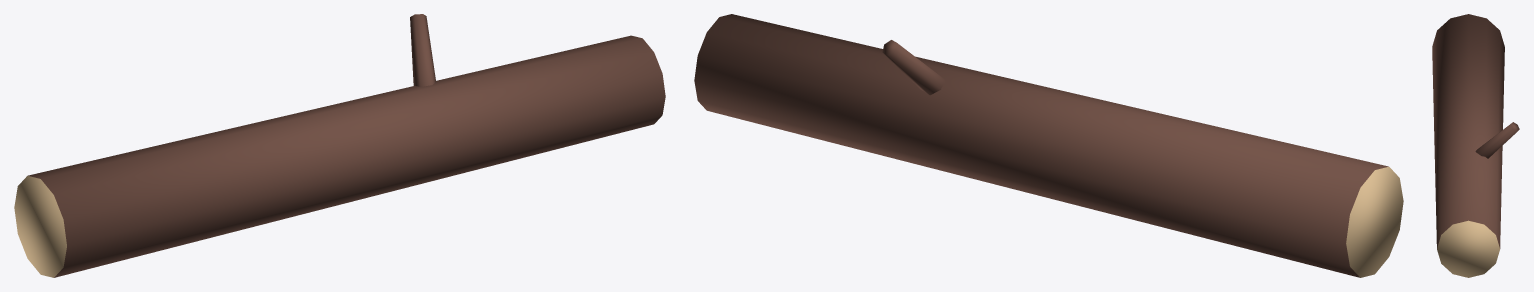
Rendered from Log.glb.
3 renders of one model, left to right at view 1: azimuth 30°, elevation 25°; view 2: azimuth 150°, elevation 25°; view 3: azimuth 270°, elevation 25°, orthographic. The views are drawn at different scales.
Visible parts, largest first — view 1: Log; view 2: Log; view 3: Log.
Boxes of the visible parts, <box> form: Log: <box>14,14,665,277</box>; Log: <box>694,14,1403,277</box>; Log: <box>1432,14,1519,277</box>.
Size of the model in its own units: 5 by 1.09 by 0.9152.
